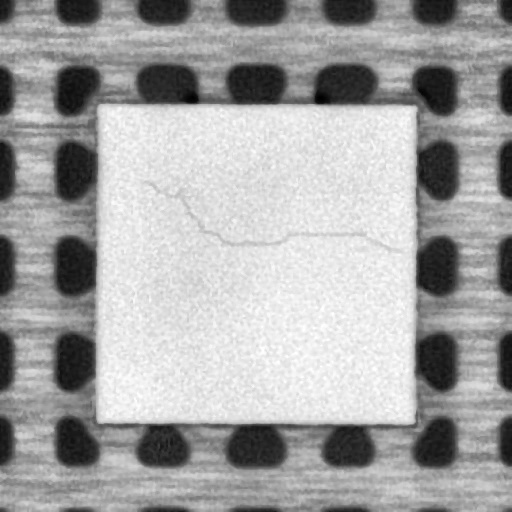DIE_CRACK: (144, 180, 400, 258)
